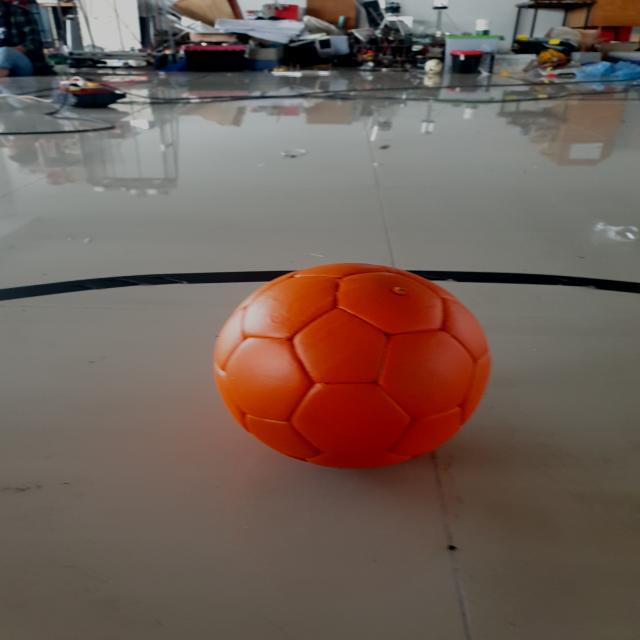bola: (208, 255, 496, 476)
